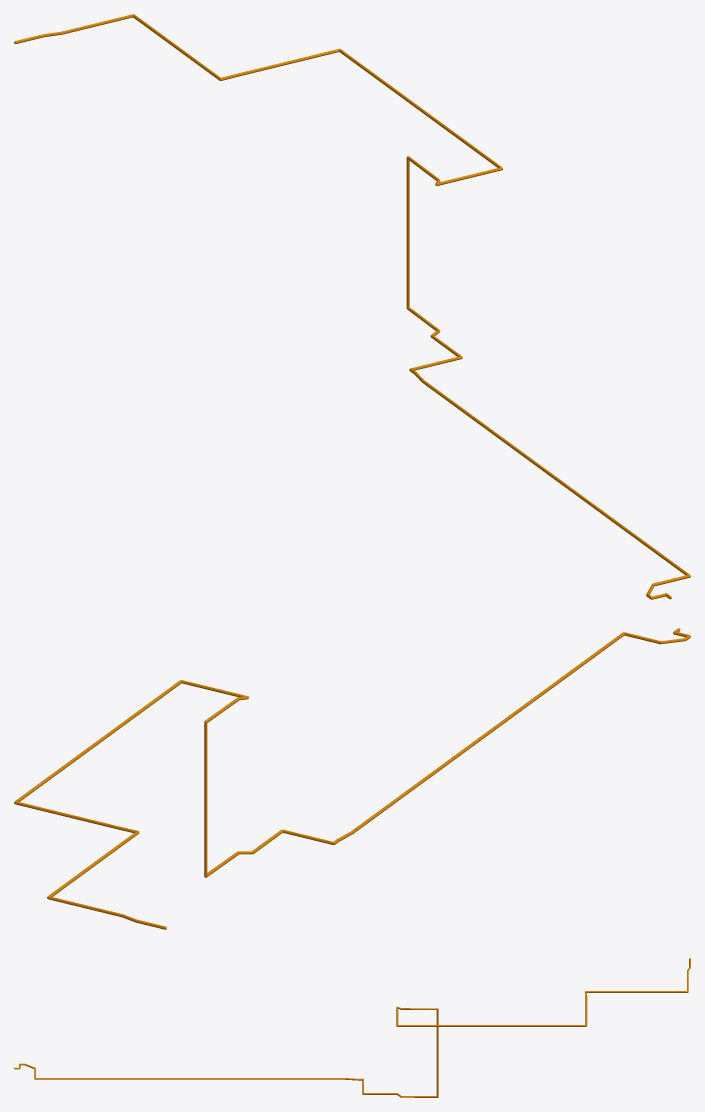
3 renders of one model, top to bottom at view 1: azimuth 30°, elevation 25°; view 2: azimuth 150°, elevation 25°; view 3: azimuth 270°, elevation 25°, orthographic. The views are drawn at different scales.
Bounding box in the file's own units: 1656 × 1020 × 6986.
